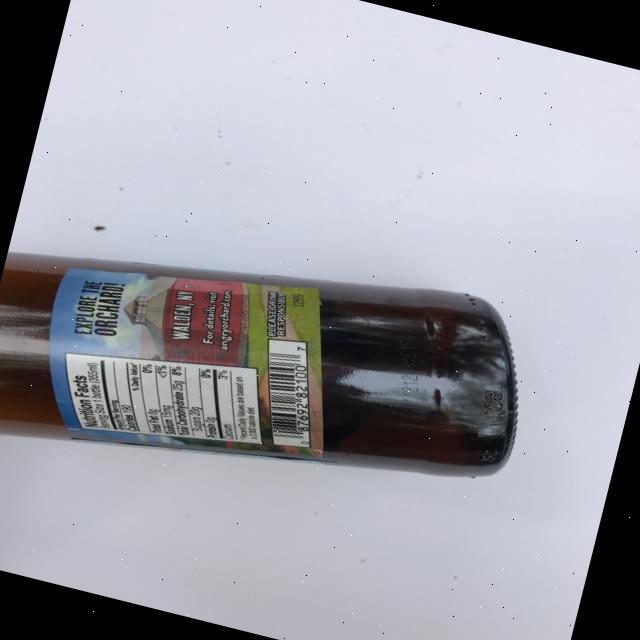glass: (0, 182, 546, 558)
